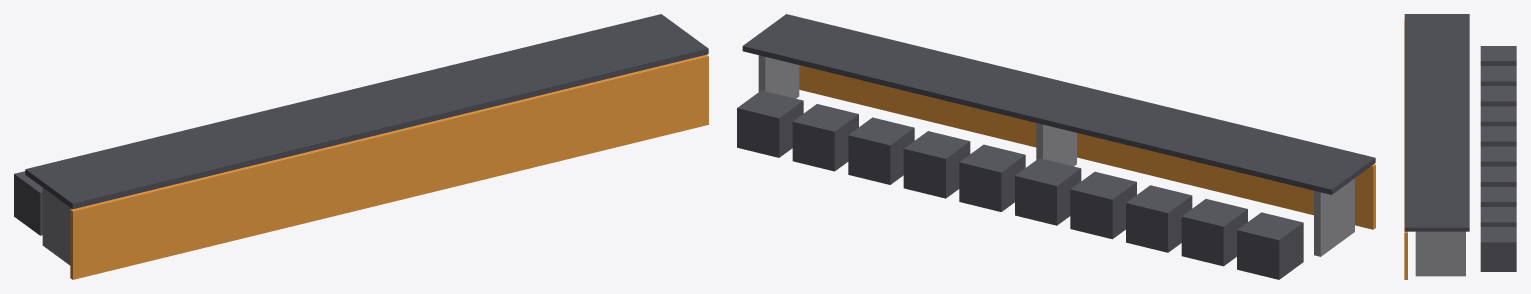
File: scorer_table.glb
The picture shows the model from 3 angles, left to right: view 1: azimuth 30°, elevation 25°; view 2: azimuth 150°, elevation 25°; view 3: azimuth 270°, elevation 25°; orthographic projection. The views are drawn at different scales.
Visible parts, largest first — view 1: front, top, leg-3.3, chair0; view 2: top, front, chair0, chair6, chair8, chair3, chair4, chair1, chair2, chair5, chair7, chair9 (+3 smaller); view 3: top, leg3.3, chair9, chair4, chair2, chair3, chair5, chair6, chair0, chair1, chair7, chair8 (+1 smaller).
Part boxes in pixels (left/top/right/bottom): front: left=70, top=54, right=708, bottom=279; top: left=25, top=14, right=708, bottom=209; leg-3.3: left=42, top=188, right=71, bottom=265; chair0: left=14, top=171, right=42, bottom=235; top: left=742, top=14, right=1375, bottom=194; front: left=799, top=65, right=1375, bottom=229; chair0: left=1237, top=212, right=1303, bottom=279; chair6: left=903, top=131, right=970, bottom=198; chair8: left=792, top=104, right=858, bottom=171; chair3: left=1070, top=171, right=1136, bottom=239; chair4: left=1015, top=158, right=1081, bottom=225; chair1: left=1181, top=199, right=1247, bottom=266; chair2: left=1126, top=185, right=1192, bottom=252; chair5: left=959, top=144, right=1025, bottom=211; chair7: left=848, top=117, right=914, bottom=184; chair9: left=737, top=90, right=803, bottom=157; top: left=1404, top=14, right=1469, bottom=231; leg3.3: left=1415, top=231, right=1465, bottom=276; chair9: left=1480, top=227, right=1516, bottom=271; chair4: left=1480, top=126, right=1516, bottom=146; chair2: left=1480, top=86, right=1516, bottom=106; chair3: left=1480, top=106, right=1516, bottom=126; chair5: left=1480, top=146, right=1516, bottom=166; chair6: left=1480, top=166, right=1516, bottom=186; chair0: left=1480, top=46, right=1516, bottom=65; chair1: left=1480, top=66, right=1516, bottom=85; chair7: left=1480, top=187, right=1516, bottom=206; chair8: left=1480, top=207, right=1516, bottom=226.
Bounding box in the file's own units: 7 × 0.8199 × 1.56.
